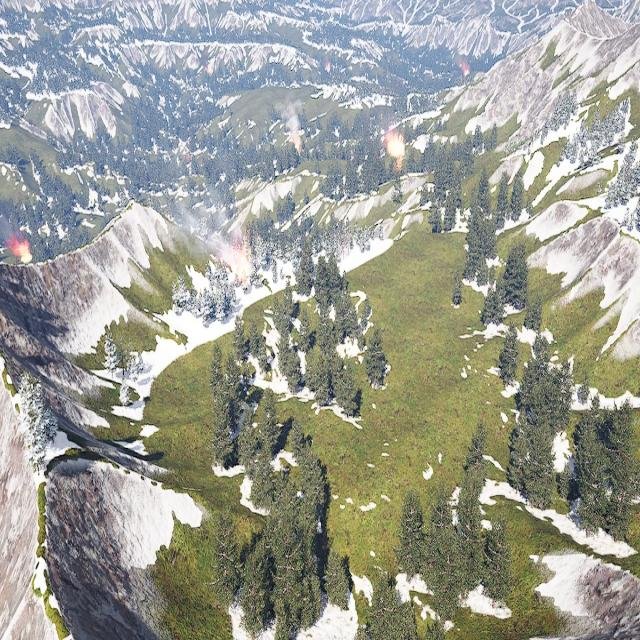fire: (232, 248, 251, 280), (15, 240, 33, 262), (387, 136, 404, 156), (461, 64, 469, 76), (294, 140, 301, 153), (325, 60, 331, 74), (208, 64, 214, 75)
smoke: (183, 202, 240, 259), (376, 108, 399, 142), (282, 96, 300, 138), (0, 220, 19, 248), (454, 53, 466, 70)
